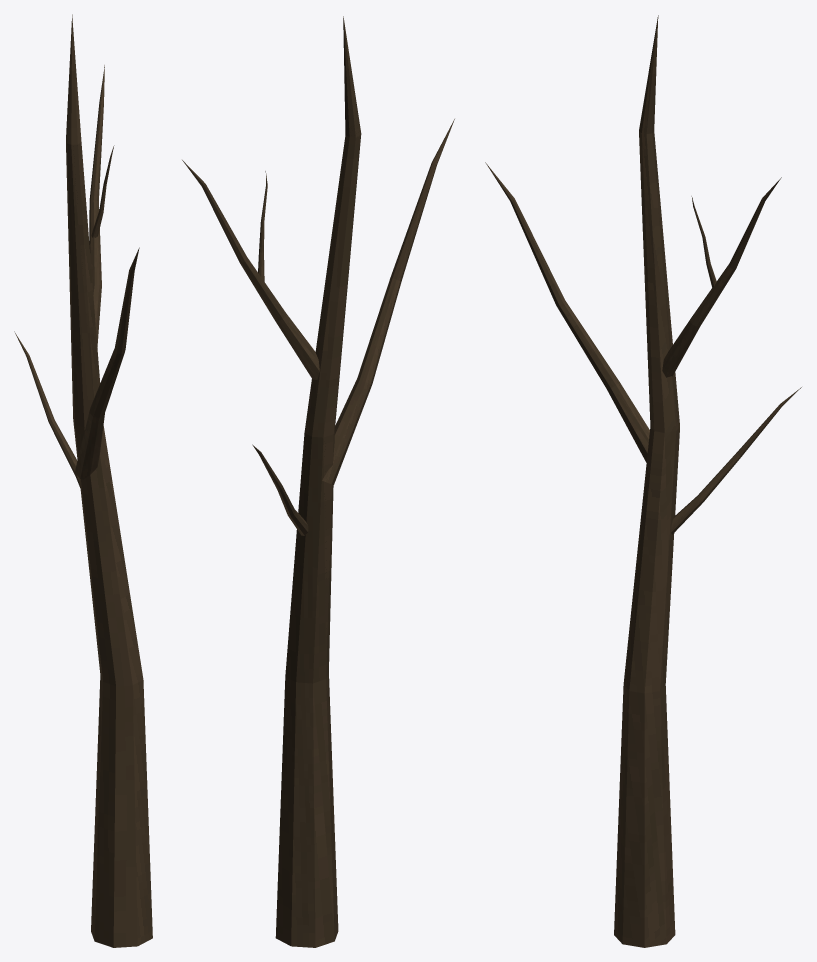
Rendered from Tree.glb.
3 views of the same model, side by side, from view 1: azimuth 30°, elevation 25°; view 2: azimuth 150°, elevation 25°; view 3: azimuth 270°, elevation 25° (orthographic). The views are drawn at different scales.
Parts seen in each view (by area): view 1: Trunk, Stick.001, Stick, Stick.002, Stick.003; view 2: Trunk, Stick.001, Stick, Stick.002; view 3: Trunk, Stick.001, Stick, Stick.002.
Part boxes in pixels (bbox=[...]): Trunk: bbox=[66, 14, 152, 947]; Stick.001: bbox=[75, 247, 139, 479]; Stick: bbox=[89, 65, 104, 347]; Stick.002: bbox=[14, 331, 80, 487]; Stick.003: bbox=[91, 145, 114, 237]; Trunk: bbox=[275, 16, 361, 947]; Stick.001: bbox=[322, 119, 454, 484]; Stick: bbox=[182, 160, 319, 379]; Stick.002: bbox=[252, 444, 308, 535]; Trunk: bbox=[614, 15, 679, 947]; Stick.001: bbox=[485, 162, 649, 462]; Stick: bbox=[662, 177, 781, 377]; Stick.002: bbox=[671, 387, 801, 534].
Size of the model in its own units: 4.33 by 32.37 by 10.36.
3 materials, 3 textured.
